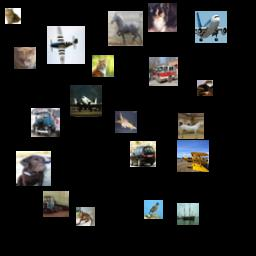airplane: (47, 26, 85, 64), (70, 85, 102, 117), (177, 140, 209, 172), (195, 11, 227, 43), (115, 111, 137, 133)
automobile: (130, 141, 156, 167)
bird: (144, 200, 163, 219)
cat: (148, 3, 177, 32), (92, 55, 114, 77), (14, 47, 36, 69), (76, 207, 95, 226), (197, 80, 213, 96), (5, 8, 21, 24)
dog: (16, 151, 51, 186)
ship: (177, 203, 199, 225)
truck: (31, 108, 60, 137), (149, 57, 178, 86), (43, 191, 69, 217)
